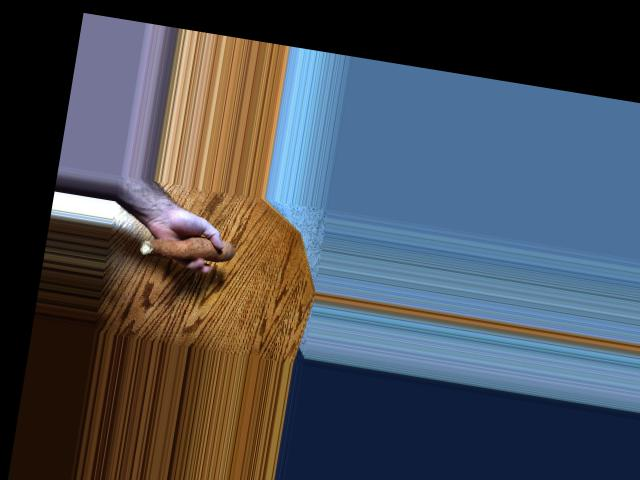sweet_potato: (146, 226, 230, 269)
